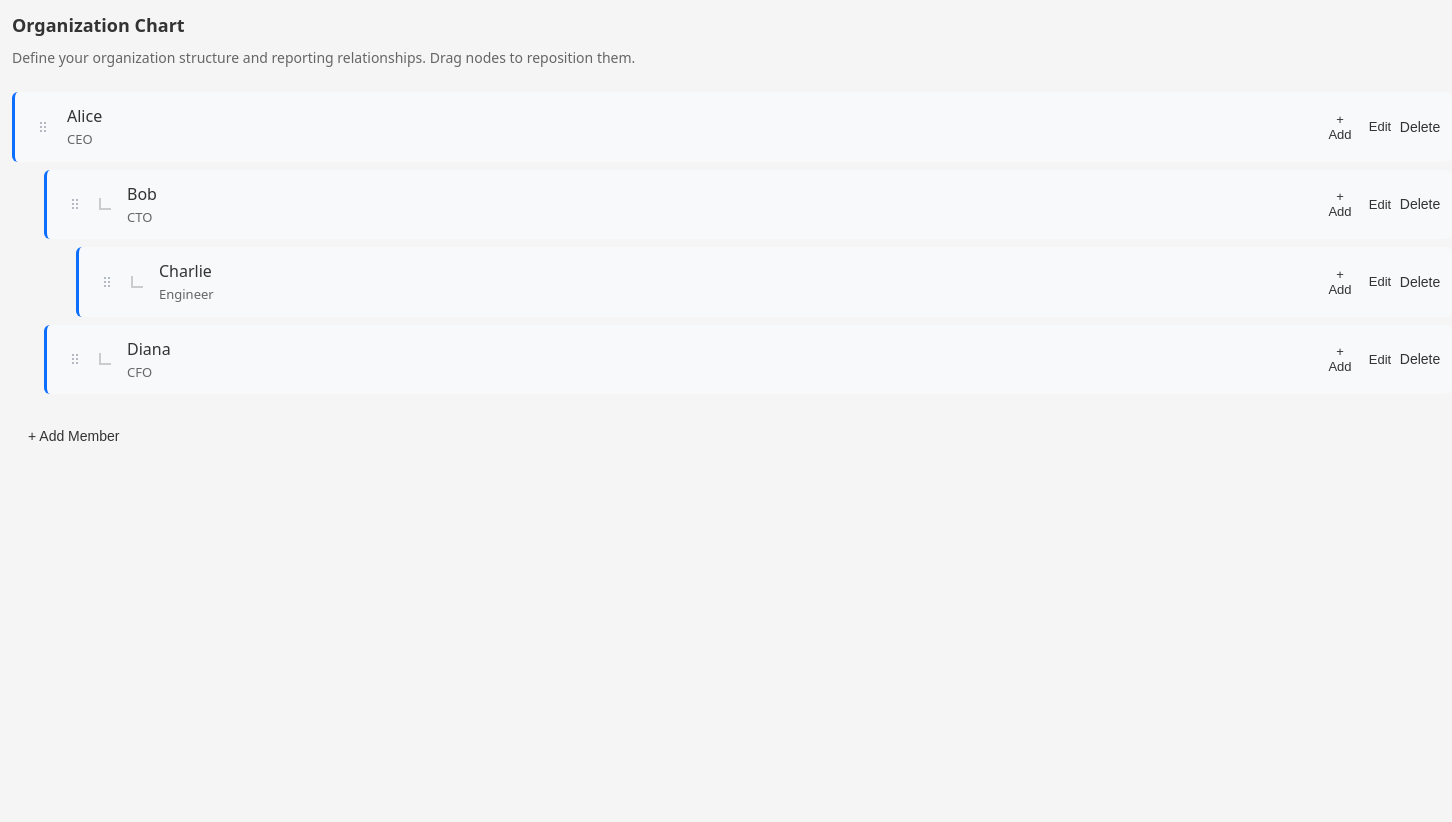
OrgChartEditor › Adding nodes › shows add form when Add Member button is clicked
The image size is (1452, 822).
Click the button "+ Add Member" at {"x": 74, "y": 436}, box [12, 418, 135, 454]
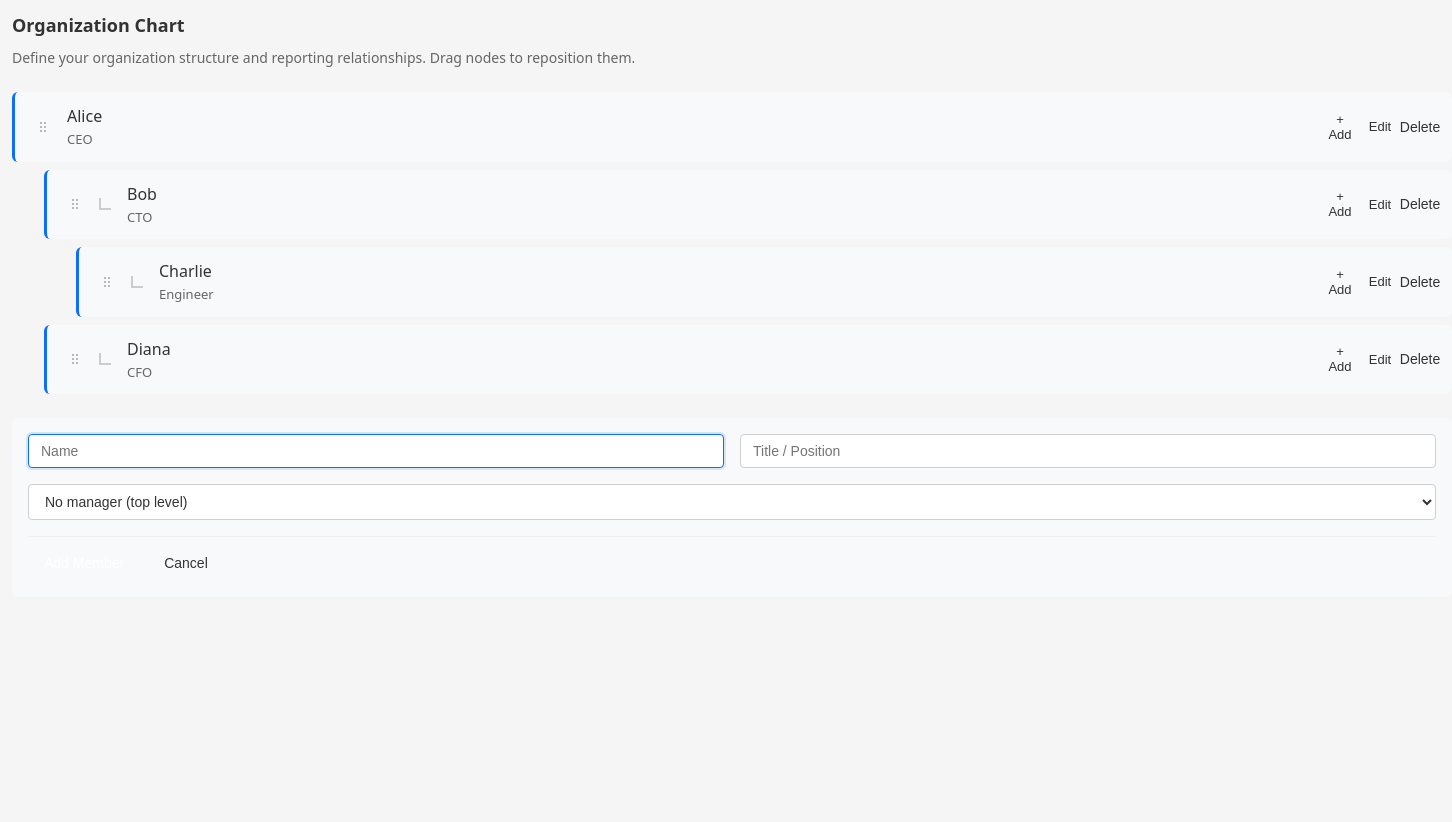
Check: the field with placeholder "Name" is shown, box [28, 434, 724, 468]
Check: the field with placeholder "Title / Position" is shown, box [740, 434, 1436, 468]
